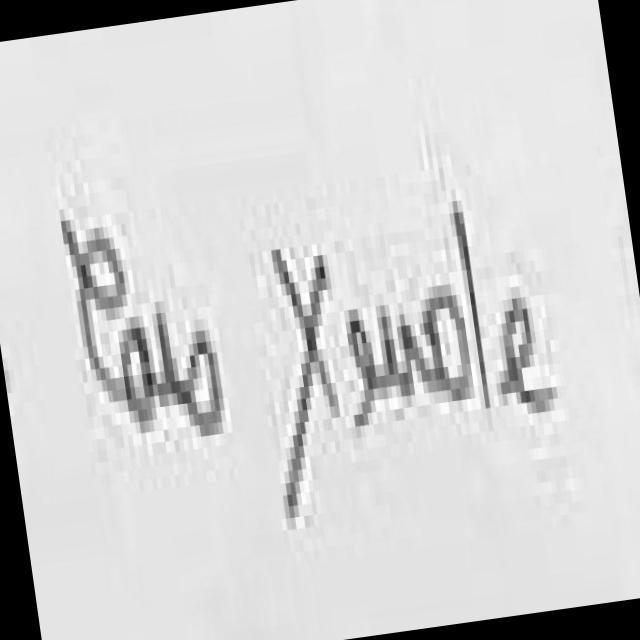C: (81, 238, 126, 411)
X: (277, 250, 344, 512)
a: (122, 327, 179, 428)
b: (157, 318, 224, 436)
e: (507, 300, 557, 410), (347, 316, 395, 398)
l: (456, 212, 494, 403)
o: (429, 295, 473, 400)
u: (382, 305, 451, 409)
